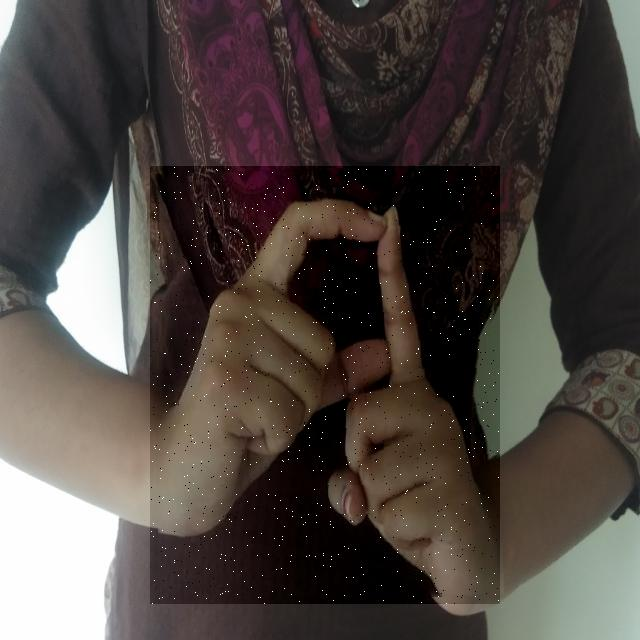D: (150, 166, 500, 604)
